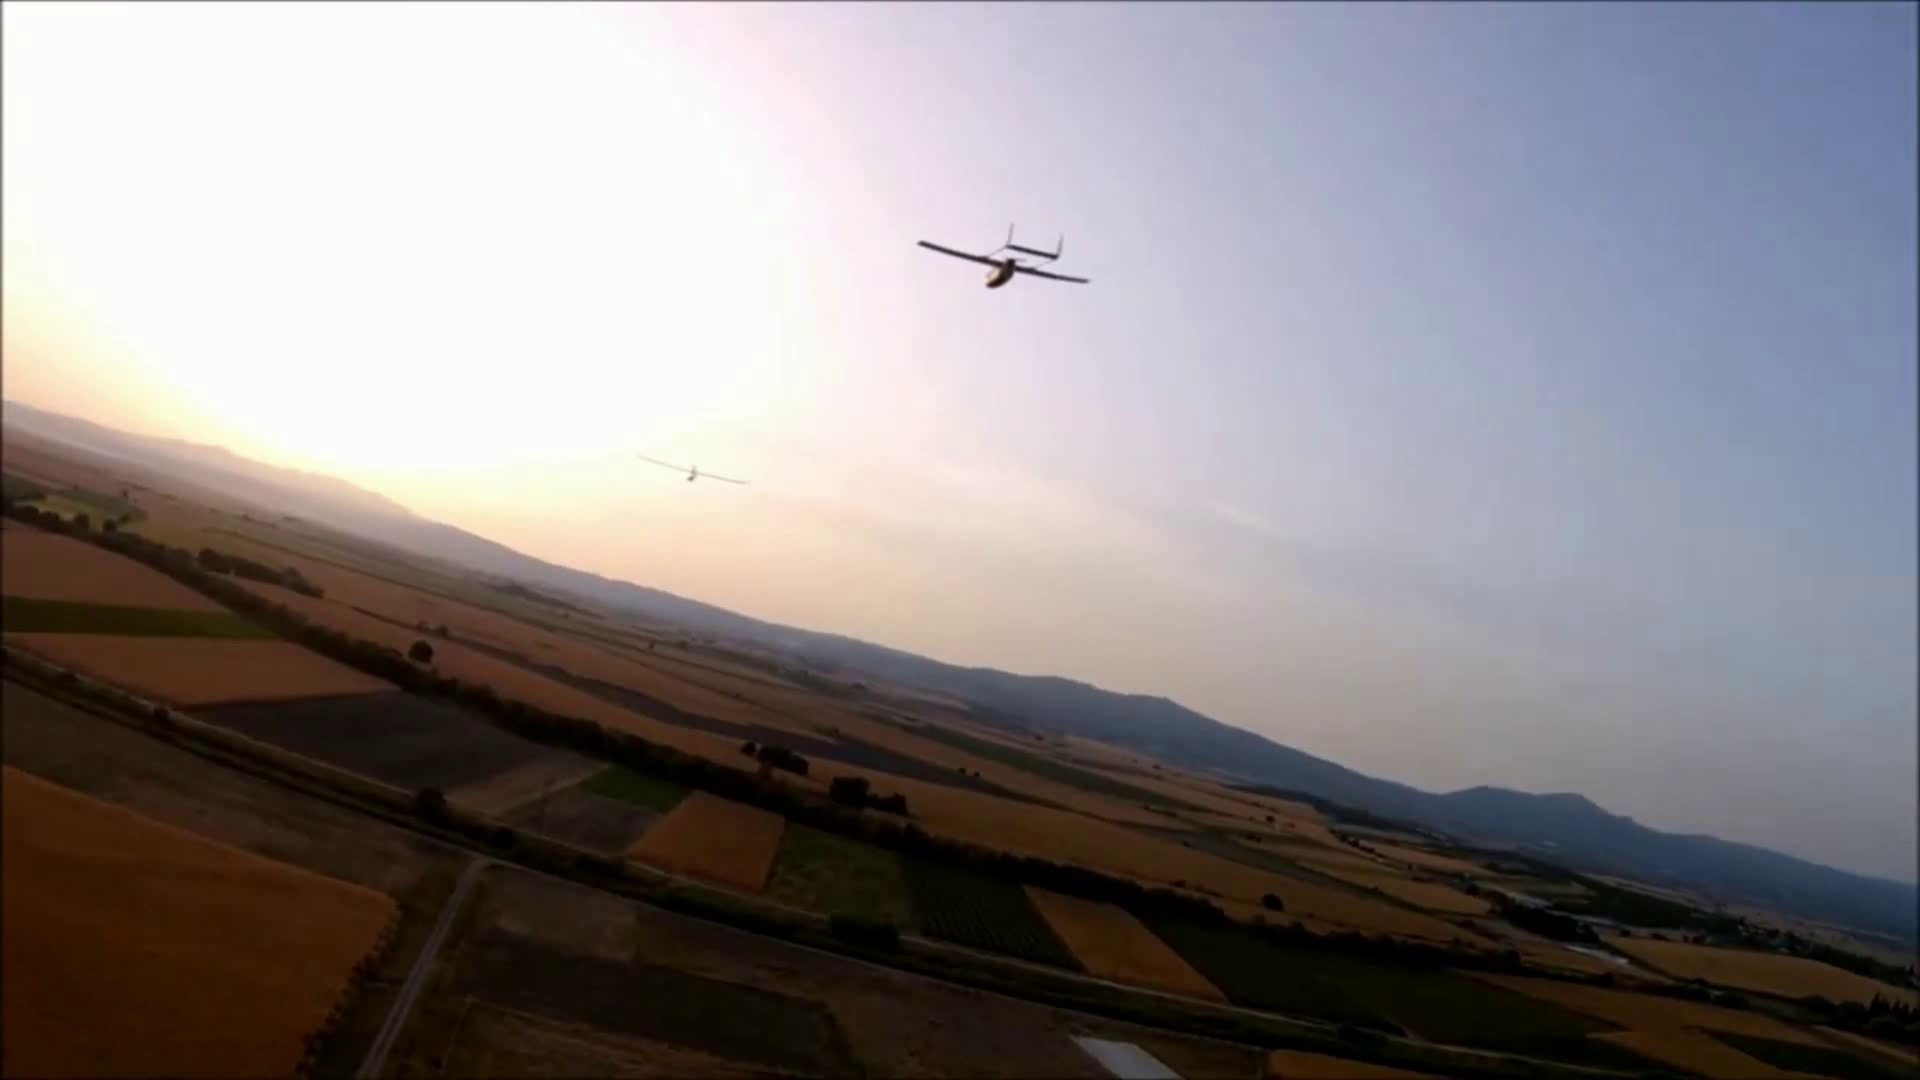airplane: (918, 216, 1091, 290)
